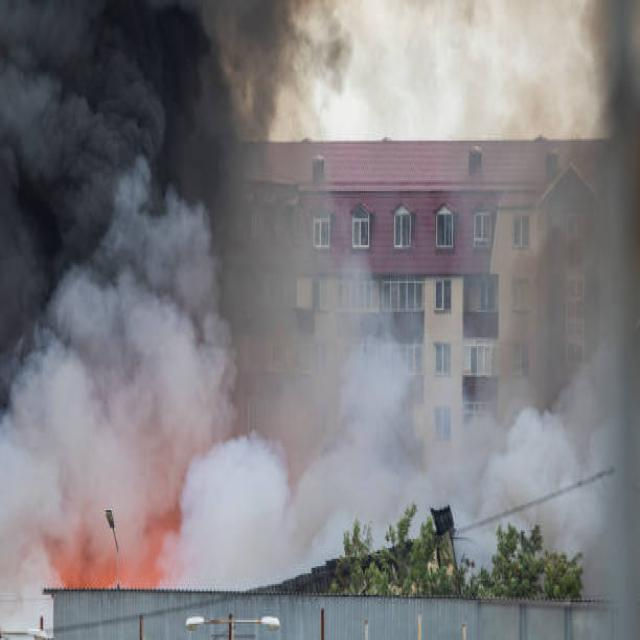Fire: (43, 497, 184, 586)
Smoke: (5, 0, 338, 552), (246, 242, 640, 546), (534, 34, 640, 575)
